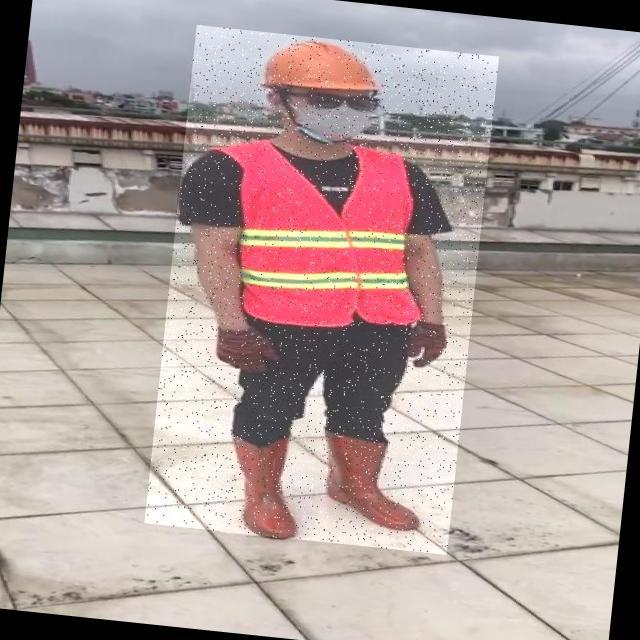Gloves: (208, 324, 283, 376), (403, 321, 445, 369)
Helmet: (243, 30, 388, 101)
Human: (144, 25, 499, 555)
Safety Boot: (313, 428, 427, 533), (220, 432, 306, 540)
Safety Vest: (228, 134, 432, 334)
